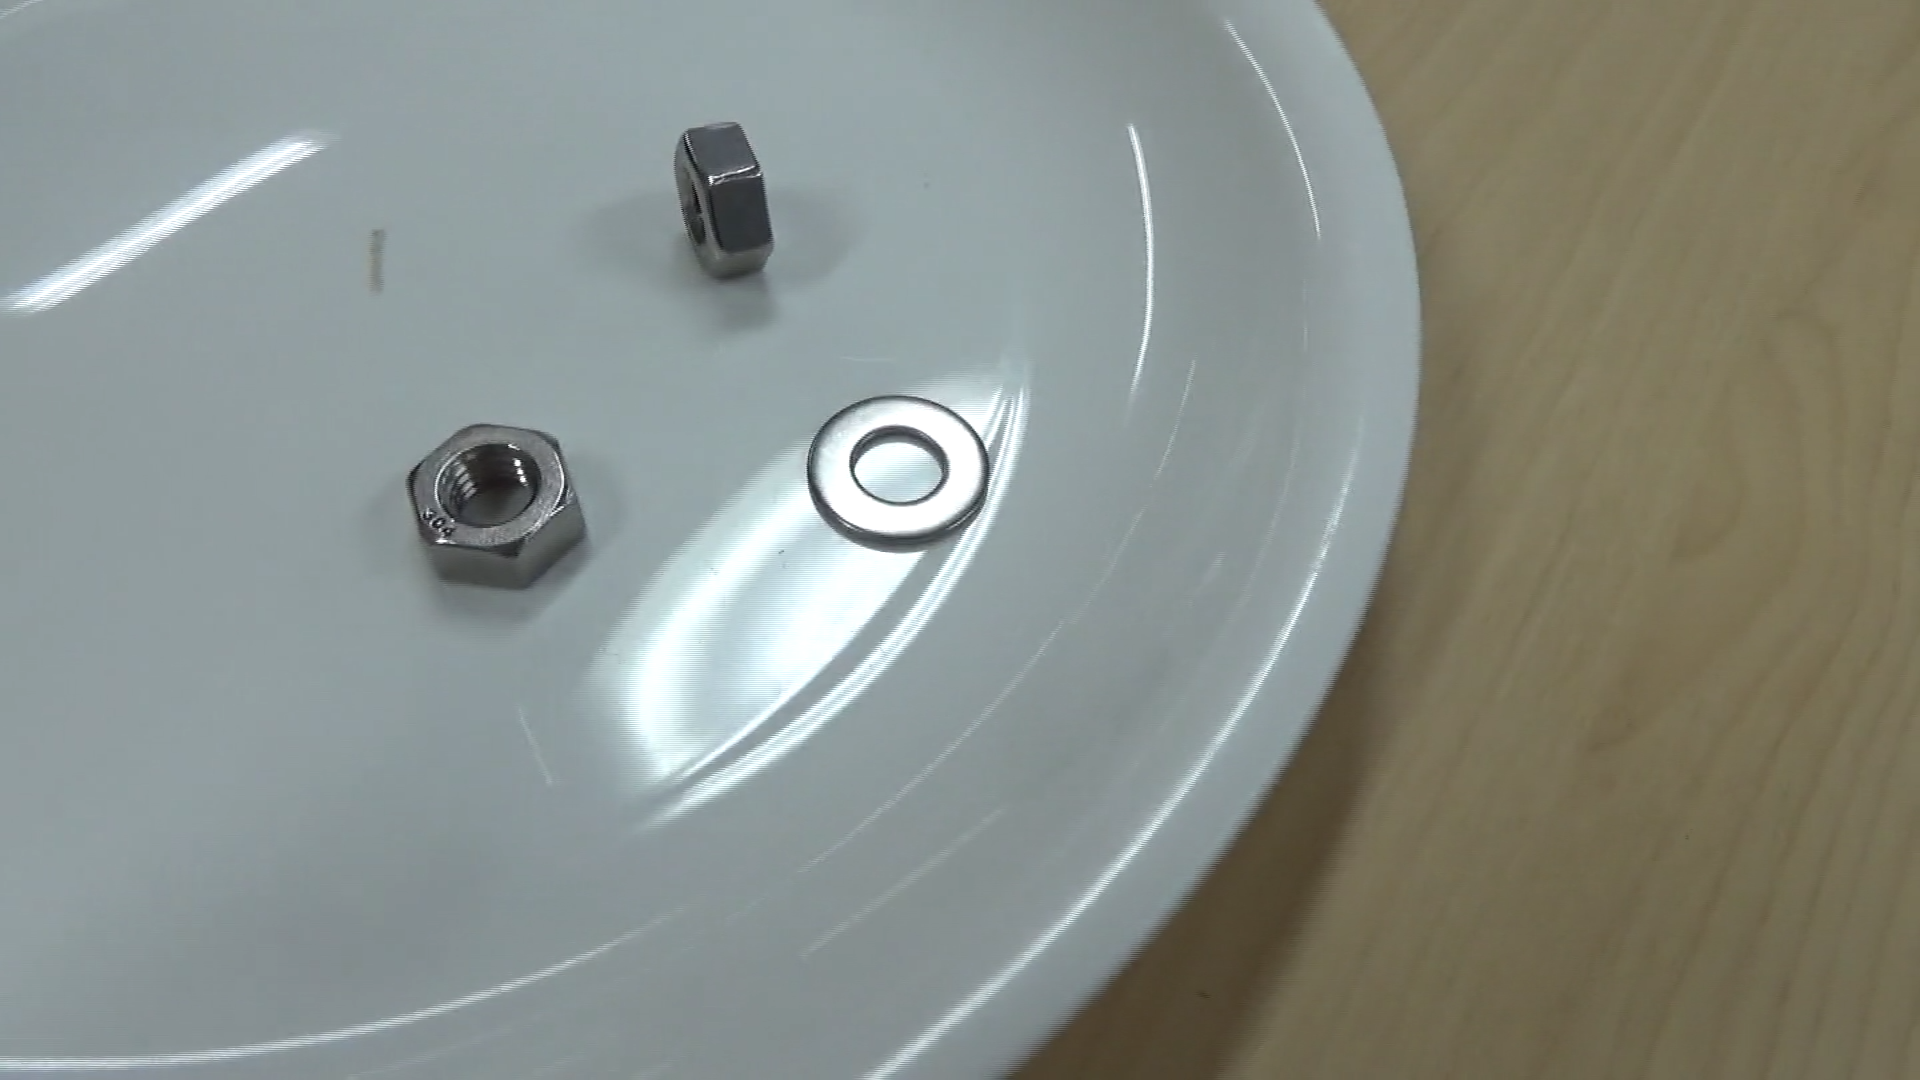nut: (404, 417, 585, 588), (666, 119, 775, 282)
washer: (802, 386, 990, 550)
